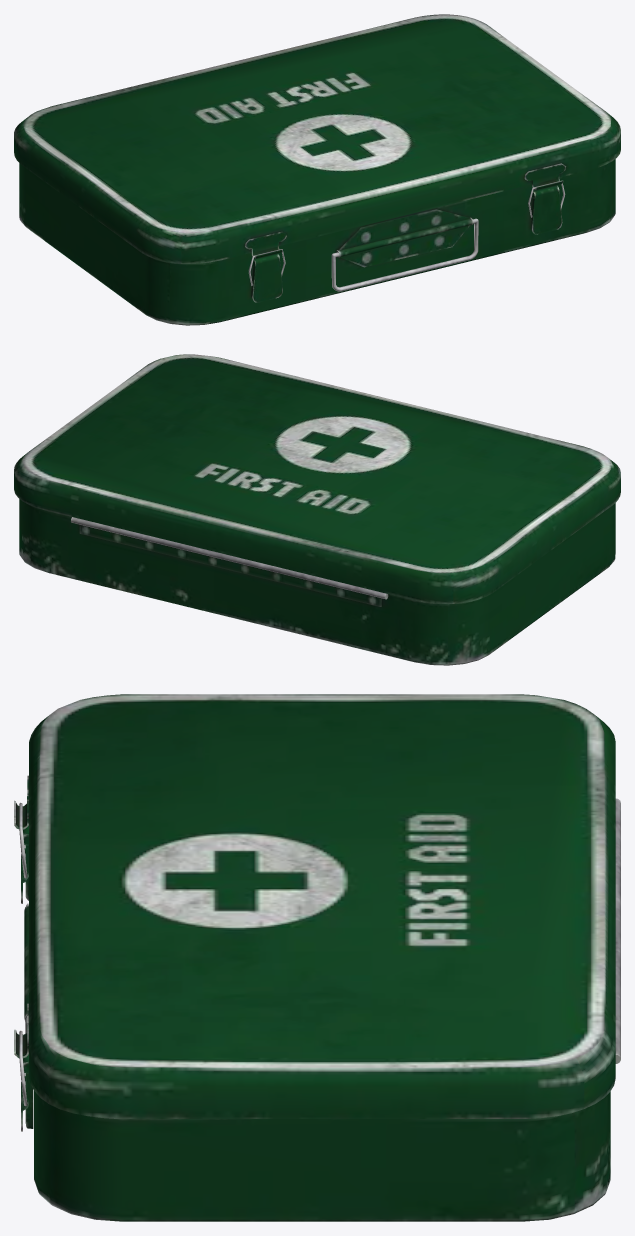
File: medical_box.glb
The picture shows the model from 3 angles, top to bottom: view 1: azimuth 30°, elevation 25°; view 2: azimuth 150°, elevation 25°; view 3: azimuth 270°, elevation 25°; orthographic projection. The views are drawn at different scales.
Parts seen in each view (by area): view 1: medical_box_latch; view 2: medical_box_latch; view 3: medical_box_latch.
Boxes of the visible parts, box(x1,y1,x2,y2) form: medical_box_latch: box(14, 14, 620, 325); medical_box_latch: box(14, 354, 620, 665); medical_box_latch: box(14, 694, 620, 1221).
Bounding box in the file's own units: 0.5255 × 0.0975 × 0.3501.
Materials: 1 (1 with a texture image).
